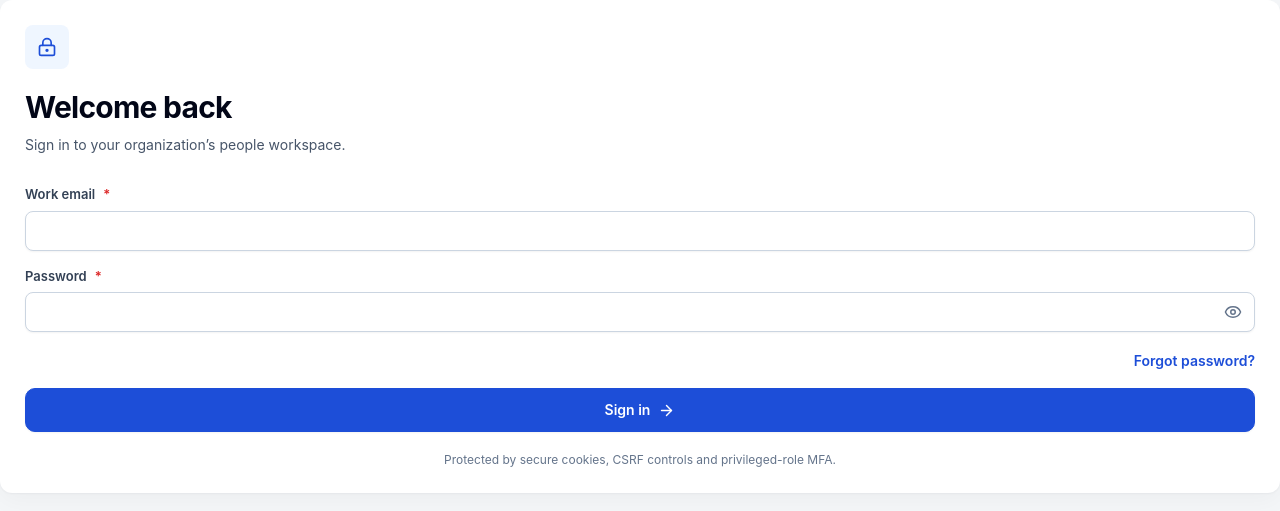
Test case: shows and hides the password without changing its value
Type "KineticDemoPass!" into the password field labelled "Password". click: {"x": 640, "y": 312}
box: [25,292,1255,332]
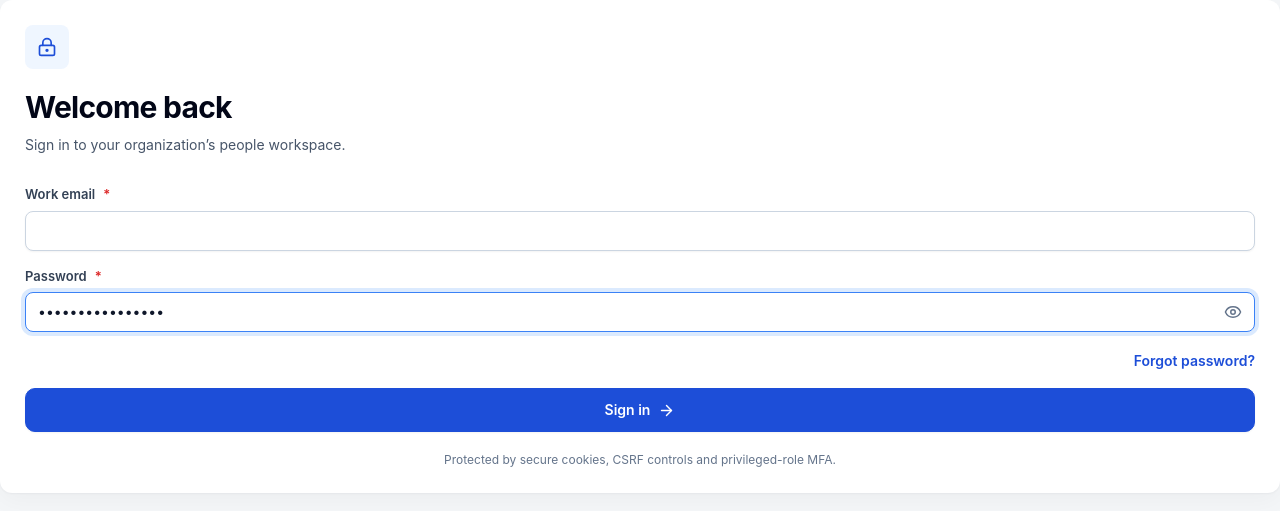
Click the button named "Show password". click: {"x": 1233, "y": 312}
box: [1215,292,1251,332]
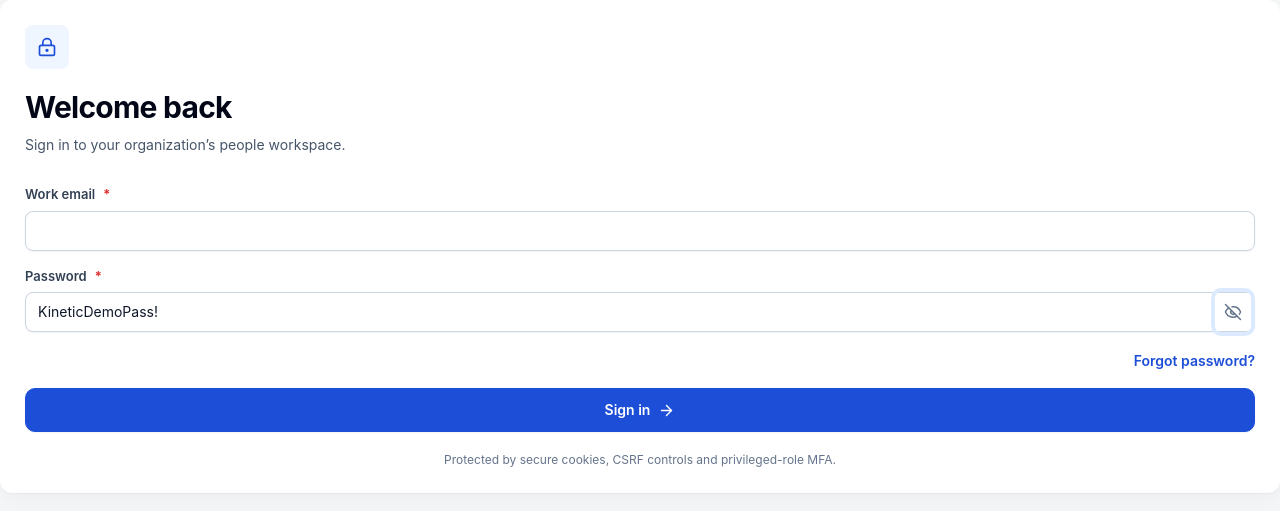
expect the field labelled "Password" shows its text: met, box [25,292,1255,332]
Click the button named "Hide password". click: {"x": 1233, "y": 312}
box: [1215,292,1251,332]
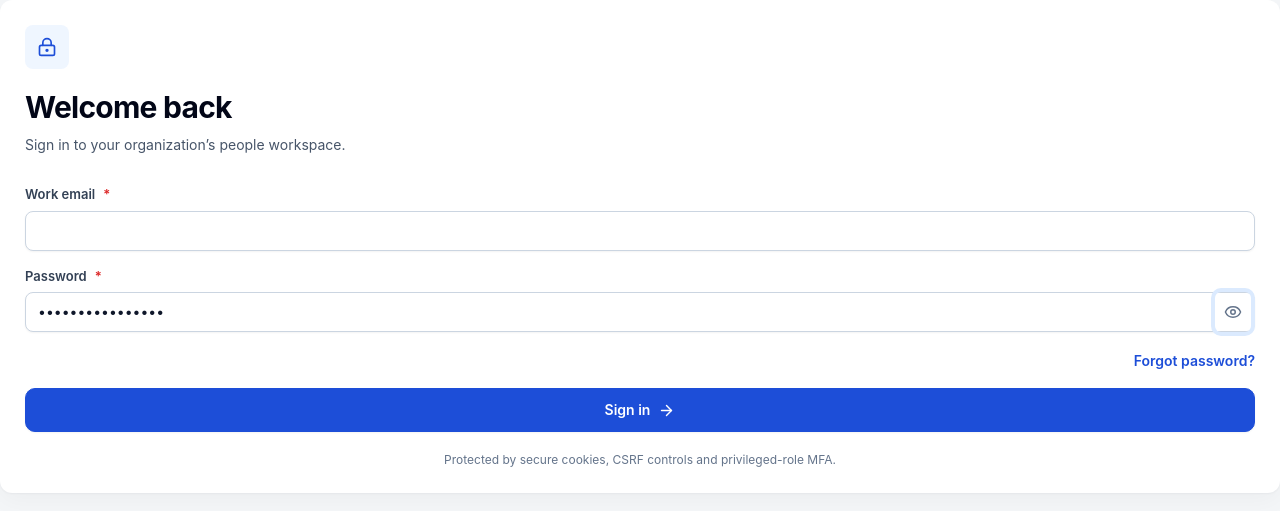
expect the password field labelled "Password" hides its text: met, box [25,292,1255,332]
